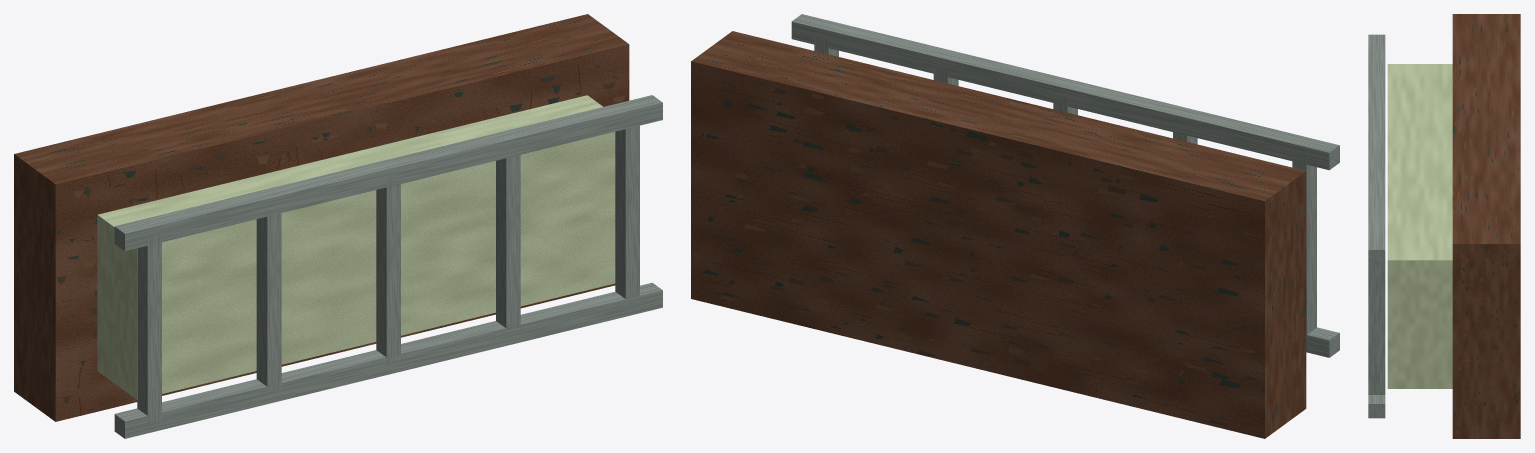
The model's file is WallLamp.glb.
3 renders of one model, left to right at view 1: azimuth 30°, elevation 25°; view 2: azimuth 150°, elevation 25°; view 3: azimuth 270°, elevation 25°, orthographic. The views are drawn at different scales.
Visible parts, largest first — view 1: WallLamp; view 2: WallLamp; view 3: WallLamp.
Part boxes in pixels (x1,y1,x2,y2): WallLamp: (14,14,662,438); WallLamp: (691,14,1339,438); WallLamp: (1368,14,1520,438).
Bounding box in the file's own units: 0.48 × 0.19 × 0.1345.
3 materials, 3 textured.
